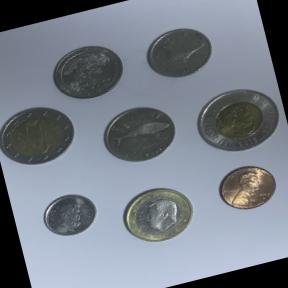1 Euro-B: (112, 176, 206, 254)
2 Euro-B: (0, 96, 84, 177)
Canada-10cent-B: (36, 185, 105, 245)
Canada-2Dollar-B: (182, 71, 288, 166)
Croatia-2Kune-B: (90, 92, 188, 176)
US-1cent-B: (208, 156, 285, 220)
US-25cent-B: (44, 35, 133, 108)
